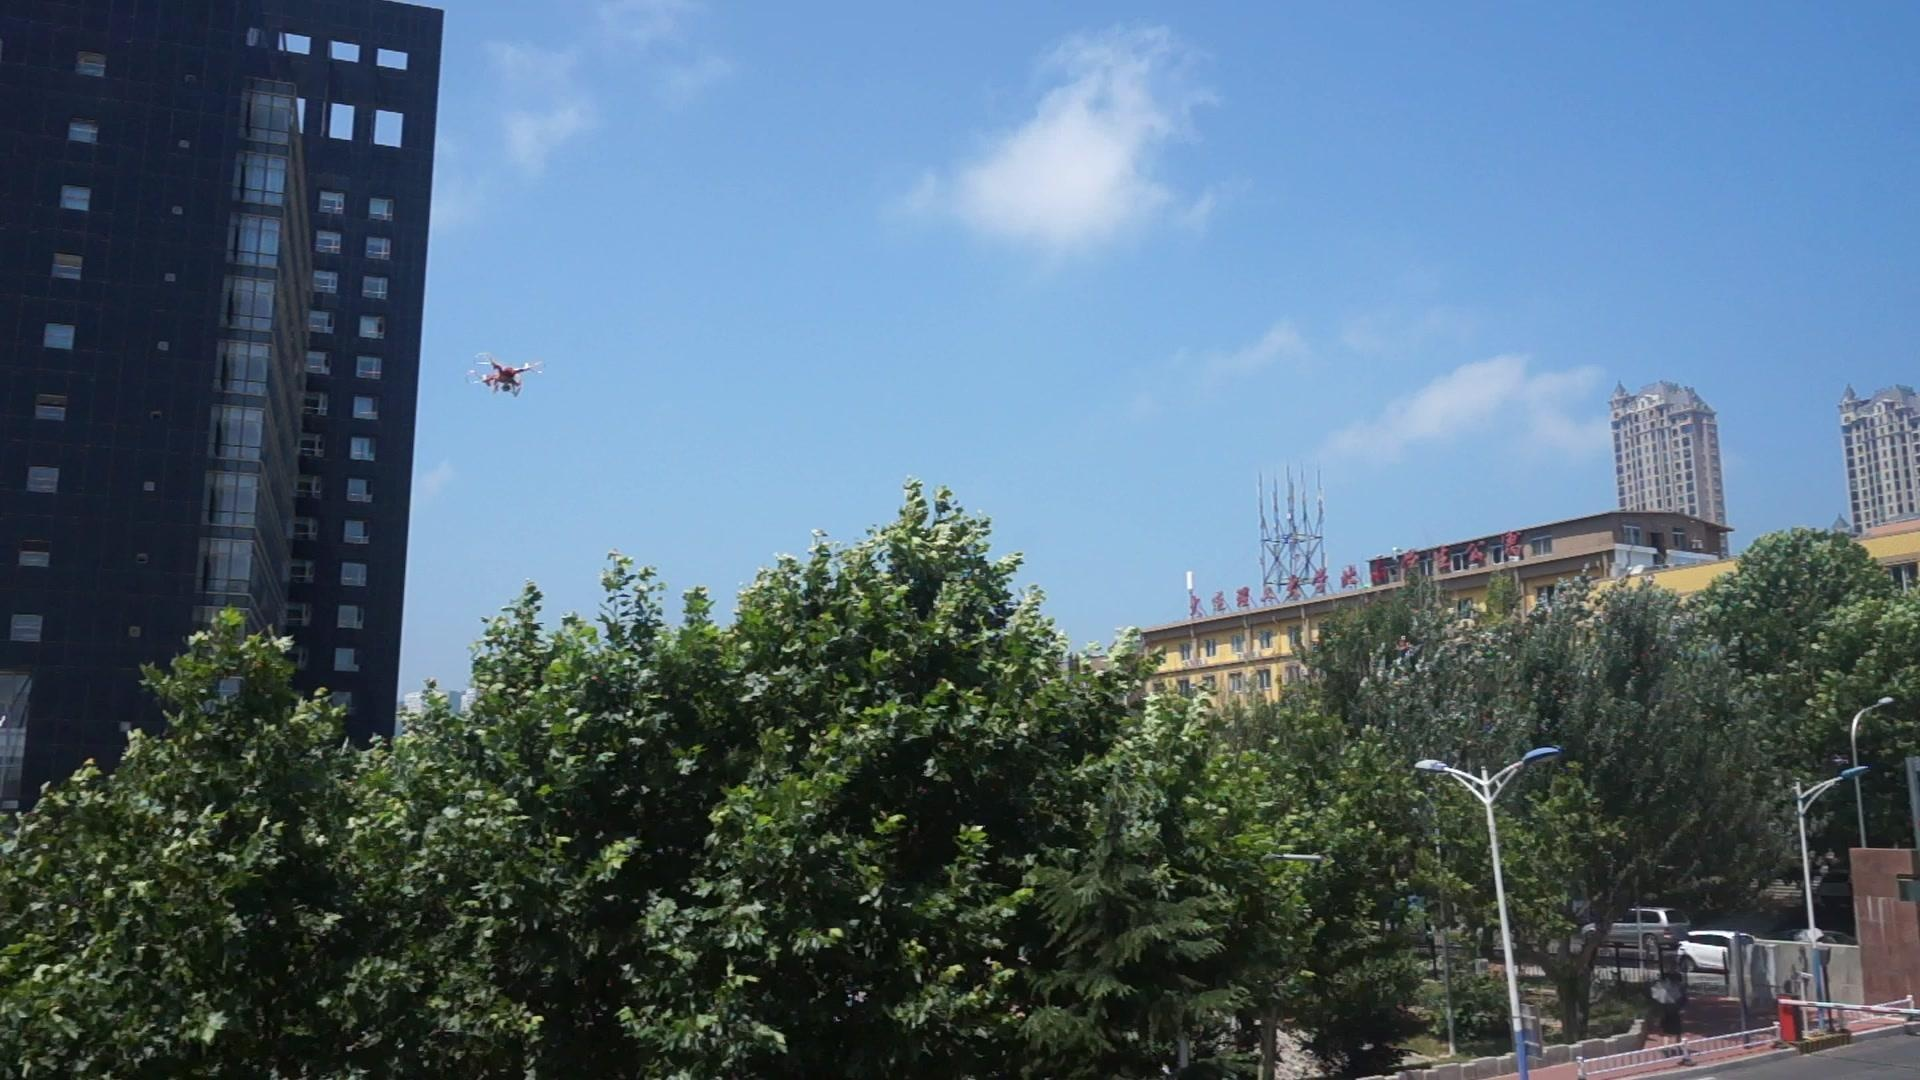UAV: (464, 353, 549, 398)
